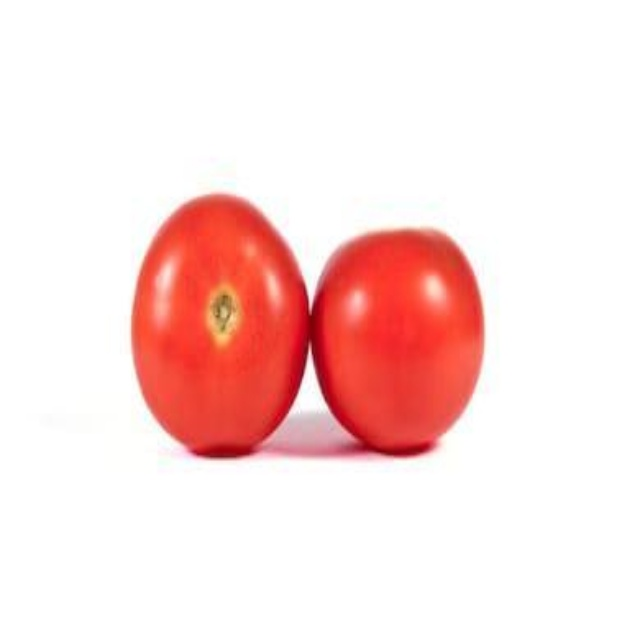tomato: (135, 198, 310, 463), (325, 237, 483, 457)
